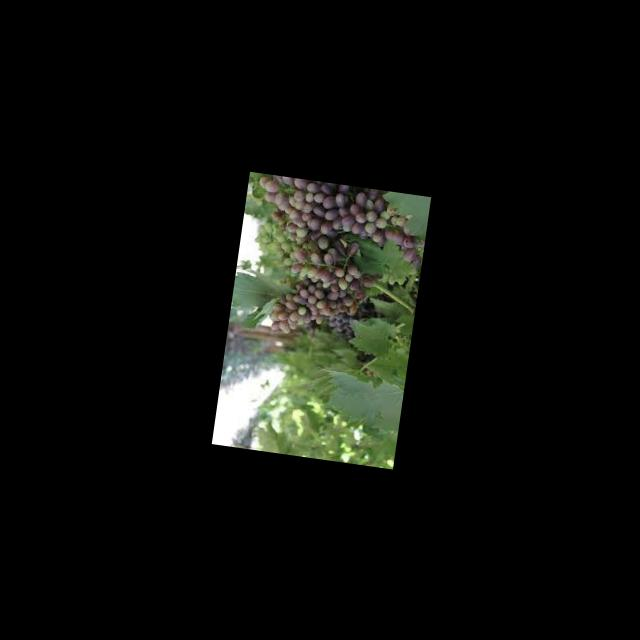grape: (236, 174, 429, 354)
